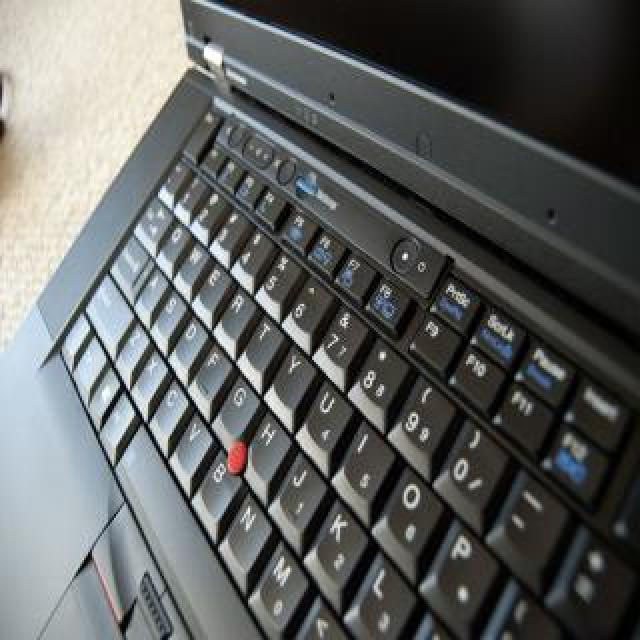laptop_computer: (22, 20, 640, 640)
